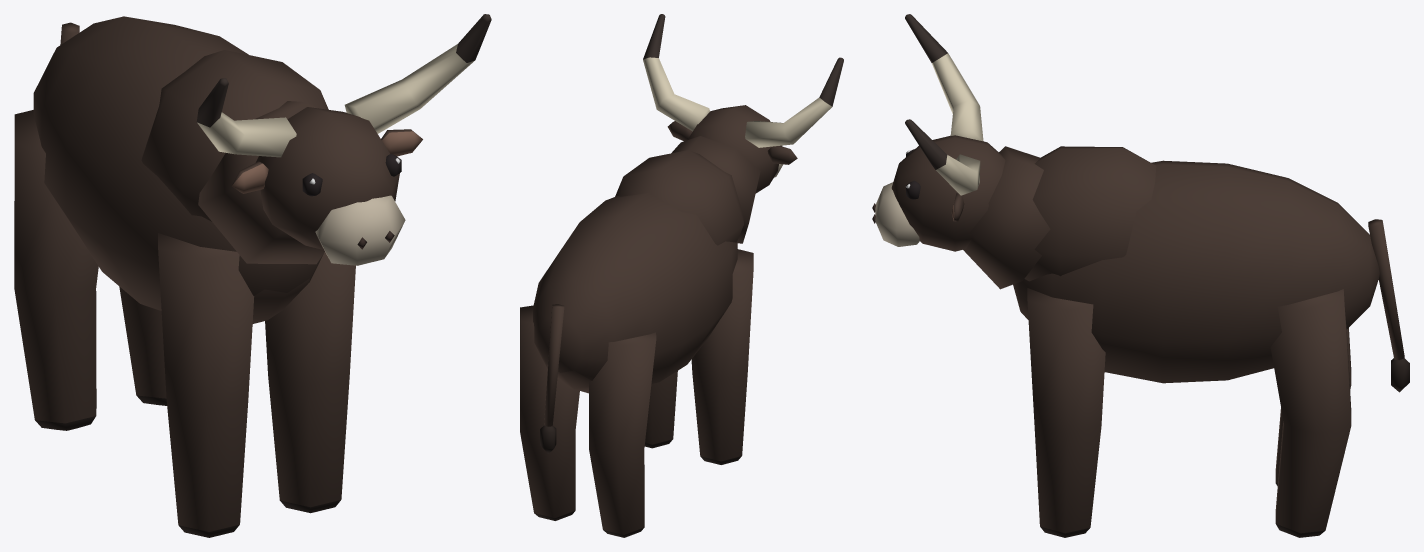
File: aurochs.glb
The picture shows the model from 3 angles, left to right: view 1: azimuth 30°, elevation 25°; view 2: azimuth 150°, elevation 25°; view 3: azimuth 270°, elevation 25°; orthographic projection. The views are drawn at different scales.
Visible parts, largest first — view 1: body, head, leg_fr, leg_br, leg_fl, leg_bl, head_body_nh; view 2: body, head, leg_br, leg_fr, leg_bl, leg_fl, tail; view 3: body, head, leg_bl, leg_fl, tail.
Part boxes in pixels (x1,y1,x2,y2): body: (33, 16, 328, 323); head: (196, 14, 491, 265); leg_fr: (158, 233, 254, 537); leg_br: (14, 110, 98, 430); leg_fl: (265, 252, 355, 513); leg_bl: (119, 286, 166, 405); head_body_nh: (302, 153, 401, 249); body: (533, 150, 743, 393); head: (643, 14, 843, 243); leg_br: (589, 332, 656, 537); leg_fr: (691, 249, 753, 464); leg_bl: (520, 305, 579, 520); leg_fl: (644, 371, 677, 448); tail: (540, 304, 564, 453); body: (1013, 146, 1379, 383); head: (875, 14, 1050, 289); leg_bl: (1270, 289, 1351, 537); leg_fl: (1027, 288, 1105, 537); tail: (1368, 219, 1409, 392).
Bounding box in the file's own units: 1.09 × 2.05 × 2.24.
